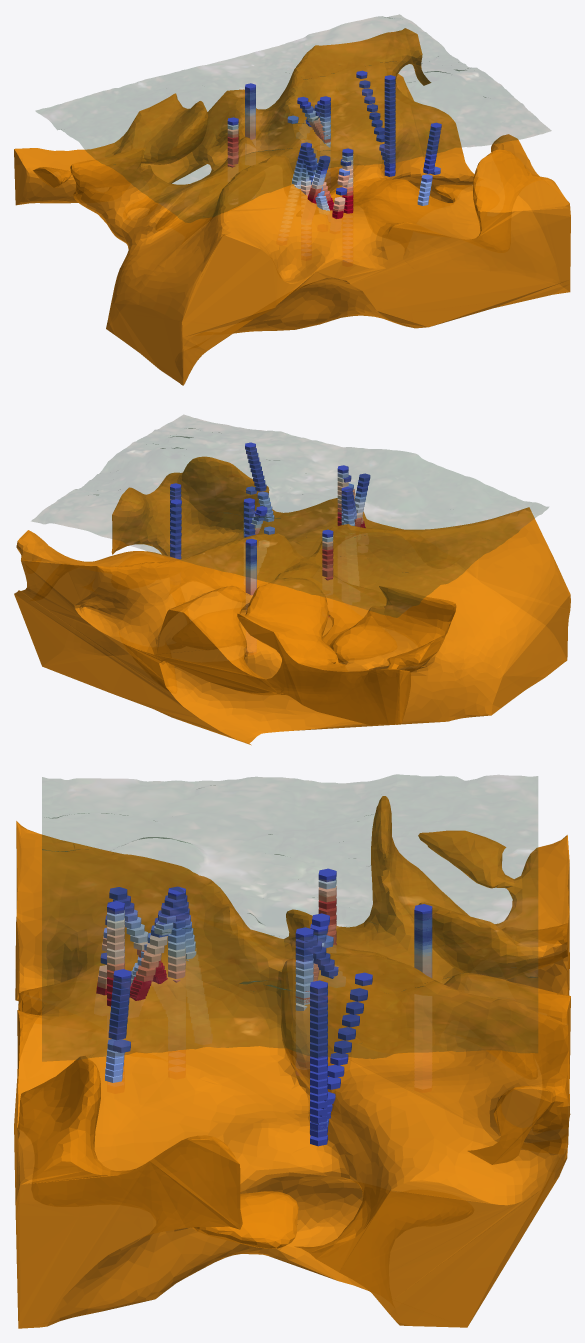
The model's file is Minahasa.glb.
The picture shows the model from 3 angles, top to bottom: view 1: azimuth 30°, elevation 25°; view 2: azimuth 150°, elevation 25°; view 3: azimuth 270°, elevation 25°; orthographic projection. The views are drawn at different scales.
Visible parts, largest first — view 1: GEBCO12 47 Reservoir, COPERNICUS_S2_Lahendong_50m_32651, measuments_temp_large_out; view 2: GEBCO12 47 Reservoir, COPERNICUS_S2_Lahendong_50m_32651, measuments_temp_large_out; view 3: GEBCO12 47 Reservoir, COPERNICUS_S2_Lahendong_50m_32651, measuments_temp_large_out.
Part boxes in pixels (<box>): GEBCO12 47 Reservoir: <box>14,28,570,385</box>; COPERNICUS_S2_Lahendong_50m_32651: <box>36,14,551,222</box>; measuments_temp_large_out: <box>227,70,441,218</box>; GEBCO12 47 Reservoir: <box>14,456,570,745</box>; COPERNICUS_S2_Lahendong_50m_32651: <box>32,415,548,617</box>; measuments_temp_large_out: <box>170,442,370,595</box>; GEBCO12 47 Reservoir: <box>14,796,570,1328</box>; COPERNICUS_S2_Lahendong_50m_32651: <box>42,774,537,1061</box>; measuments_temp_large_out: <box>96,868,432,1146</box>.
Size of the model in its own units: 0.9237 by 0.4093 by 0.7031.
